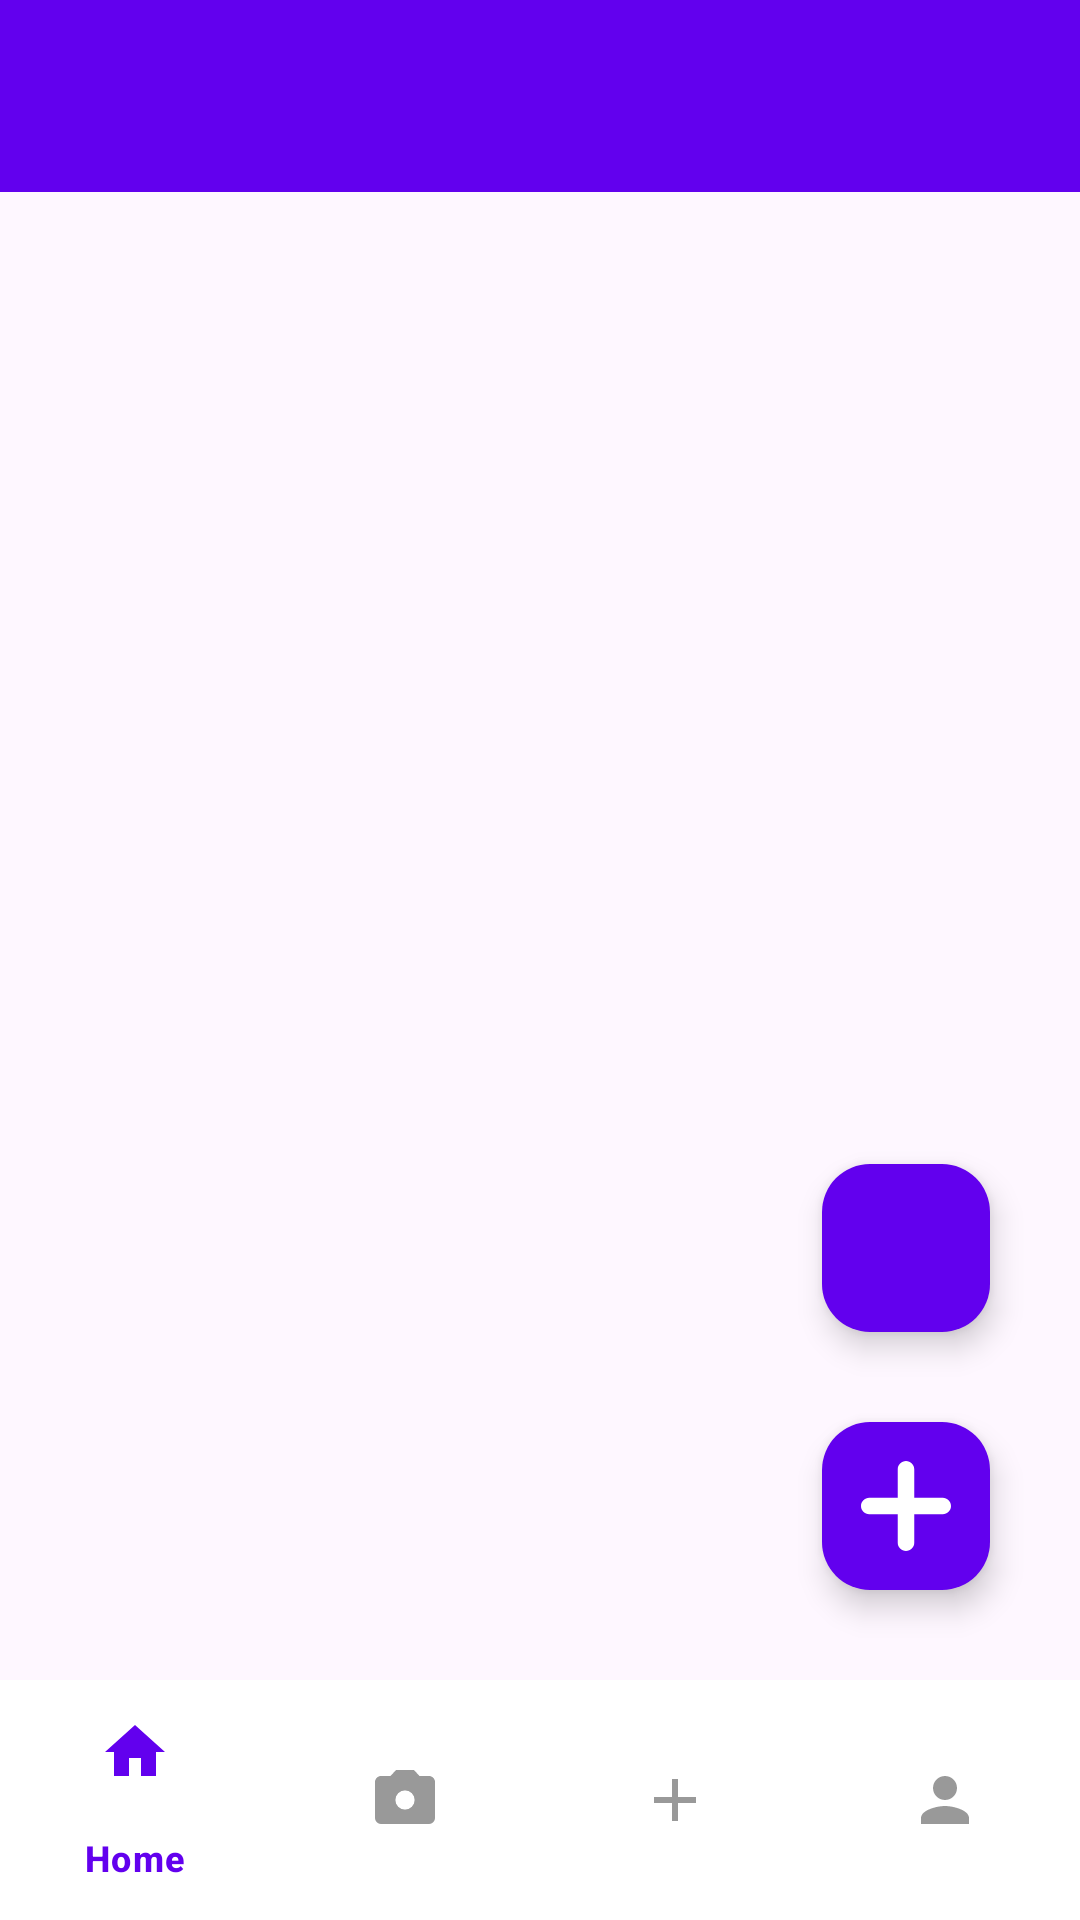

Where to tap for icons on this 1080px×1920px app screen, as (x=x, y=y):
add symbol: (x=906, y=1506)
